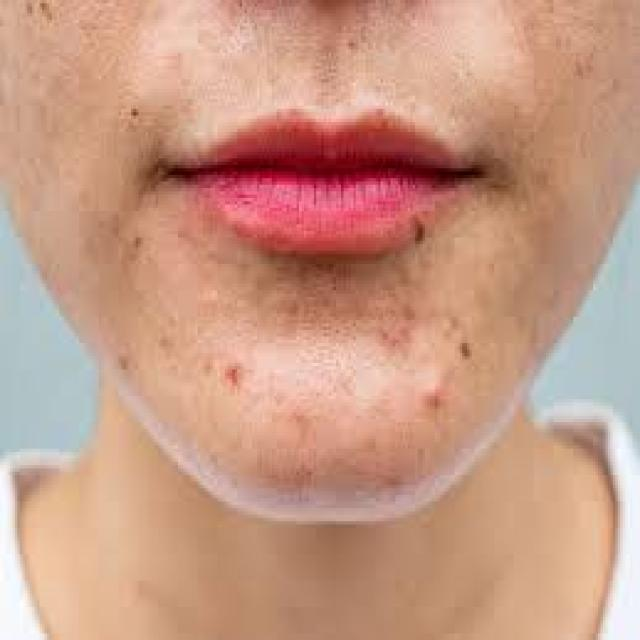Acne: (222, 355, 245, 395)
